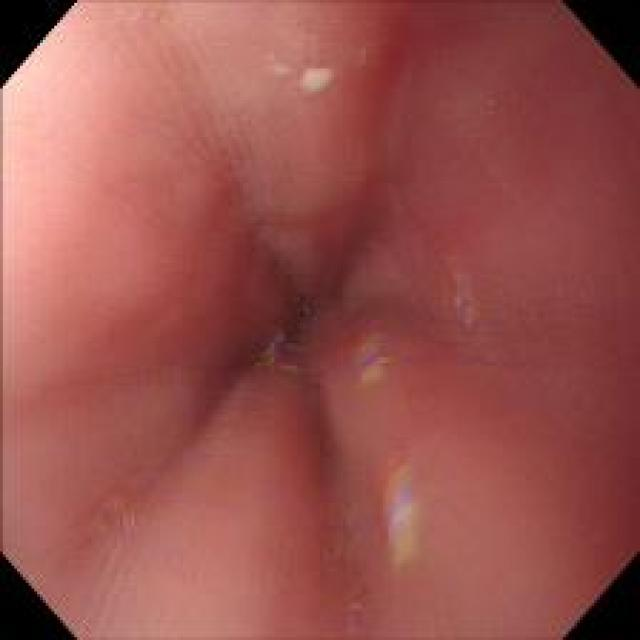color misalignment: (369, 454, 425, 560), (254, 326, 306, 372), (342, 328, 384, 378), (450, 266, 475, 321)
